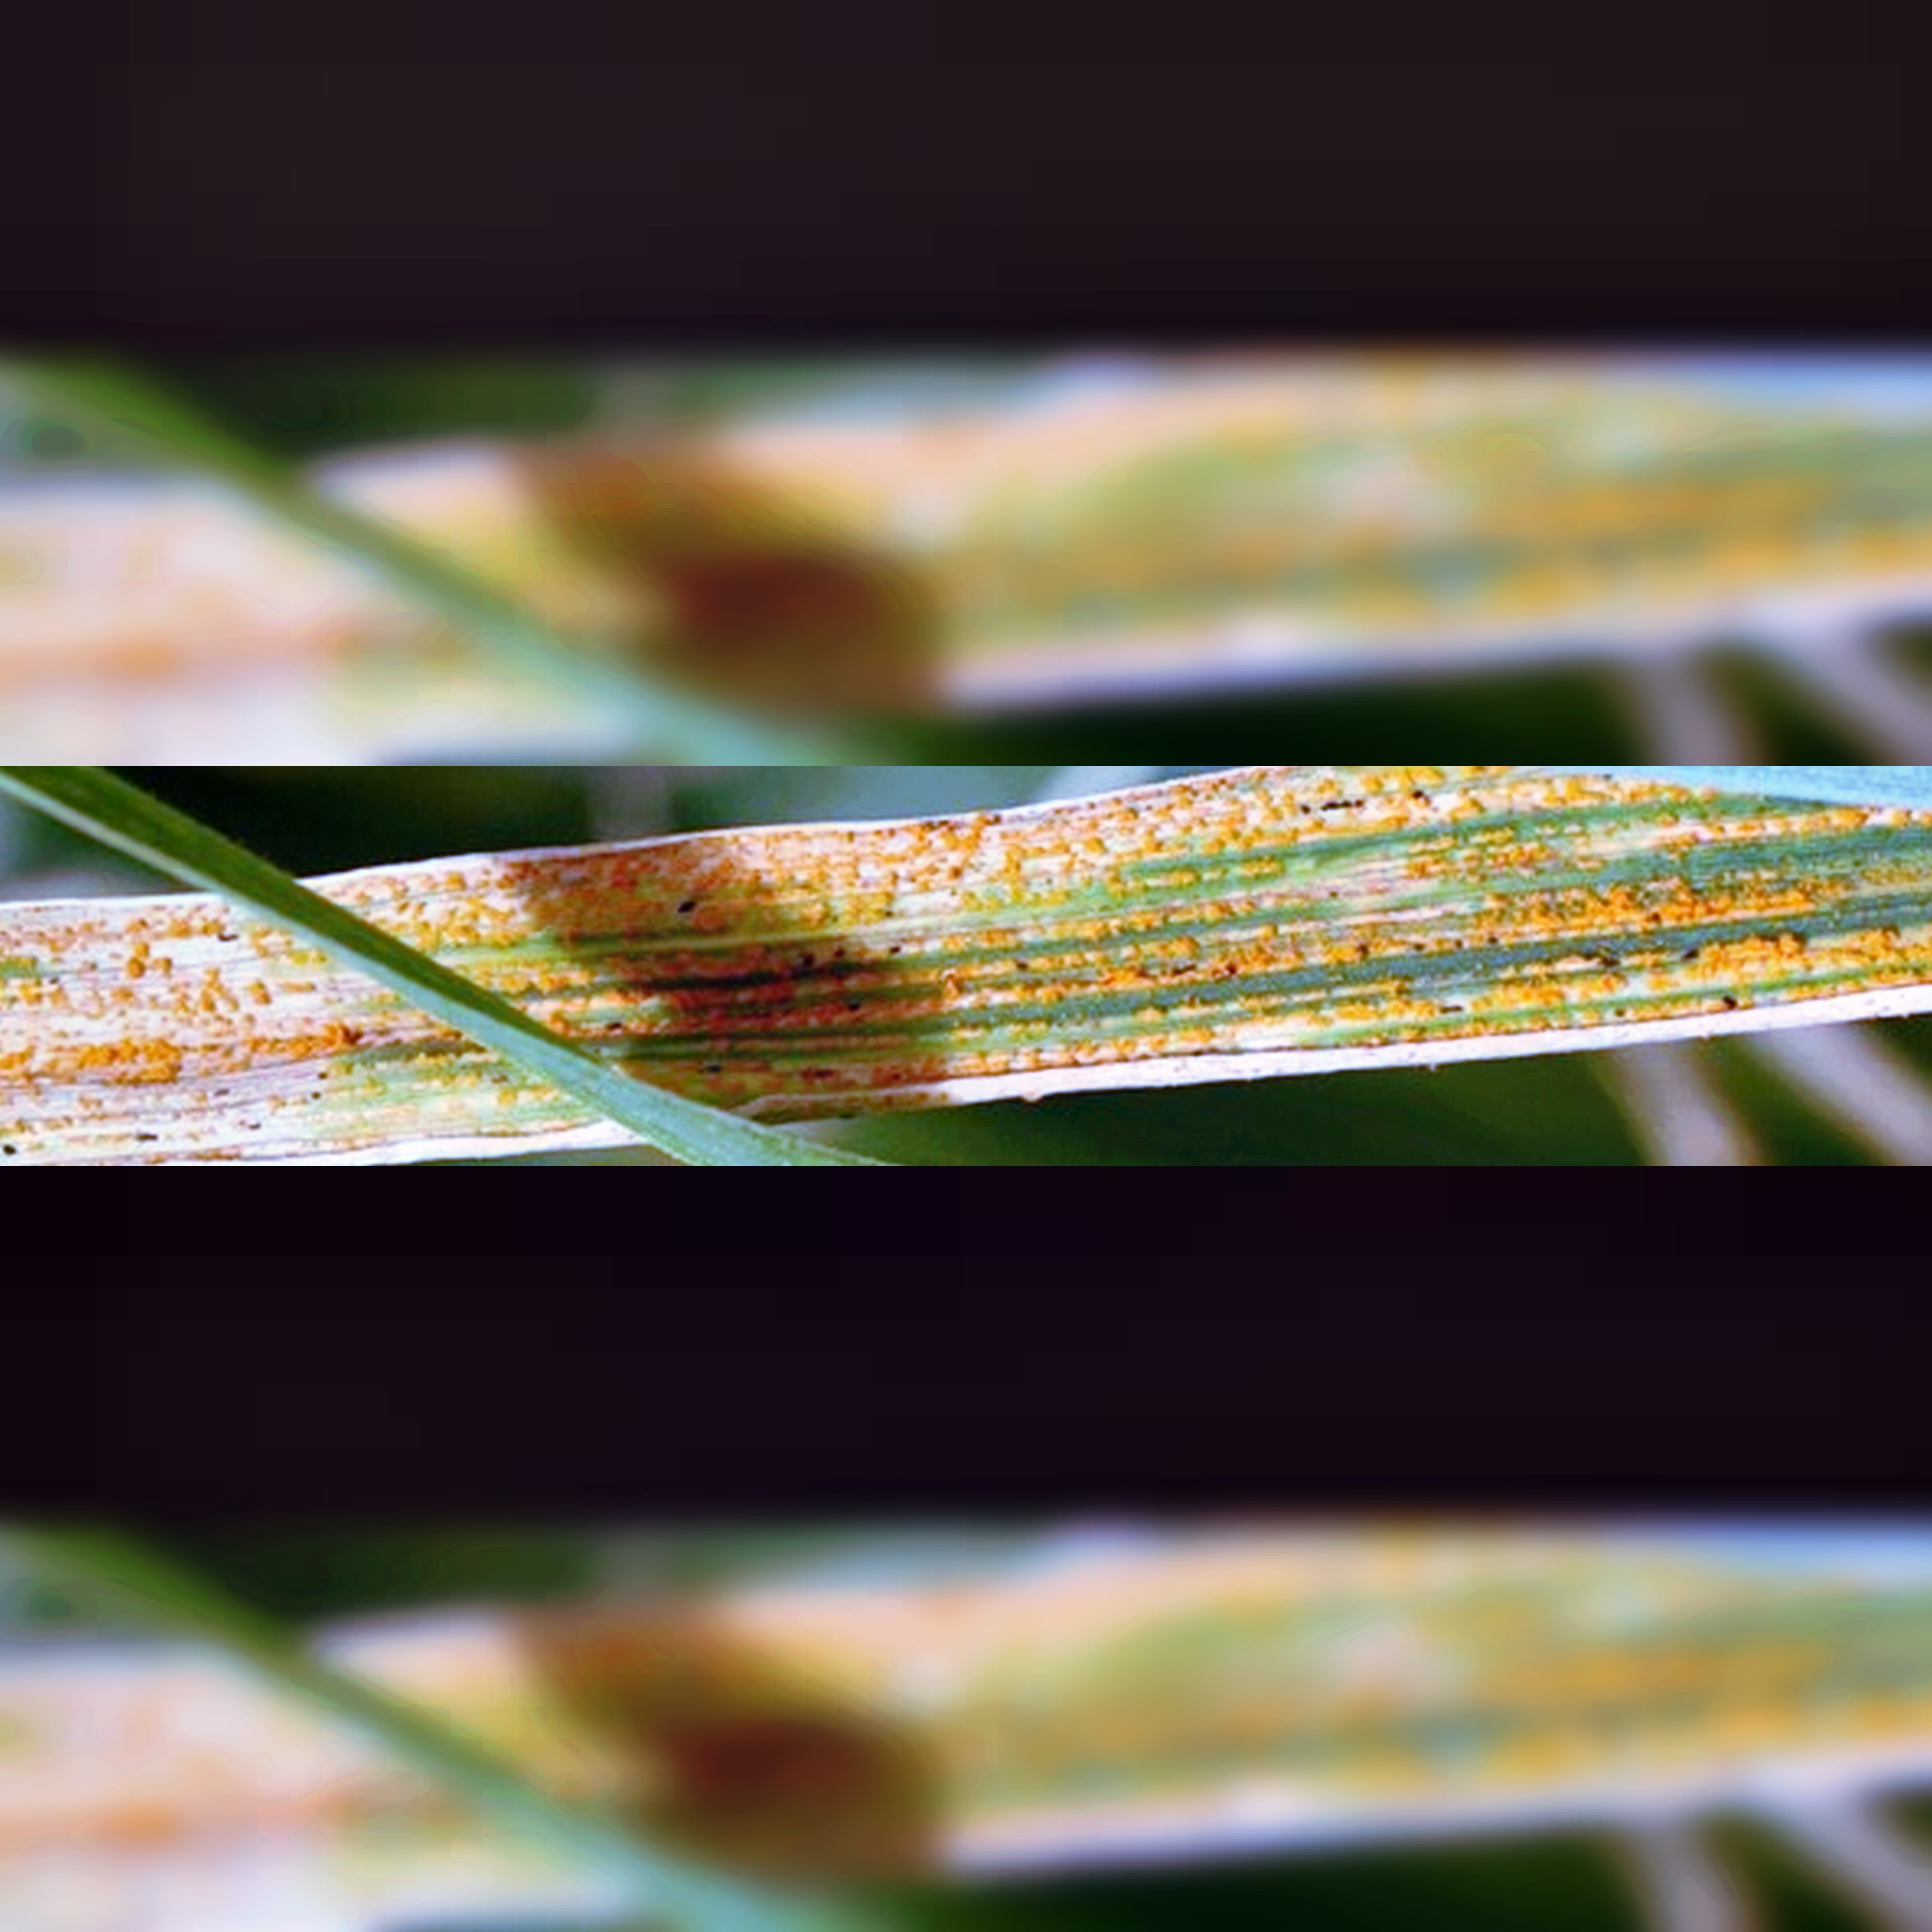Leaf Rust: (55, 773, 1886, 1154)
